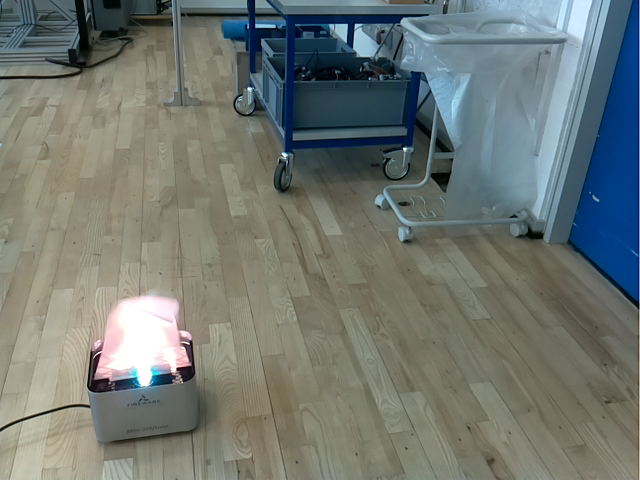fire: (92, 295, 192, 382)
